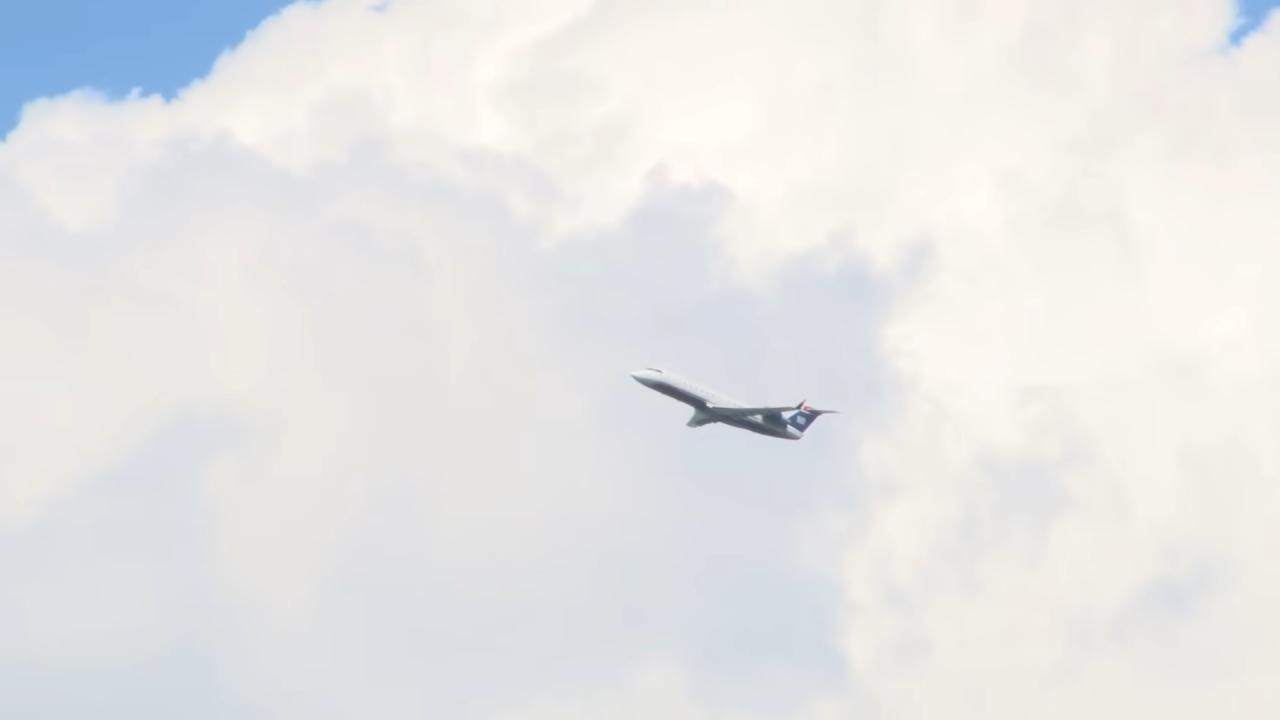Airplane: (616, 356, 844, 466)
